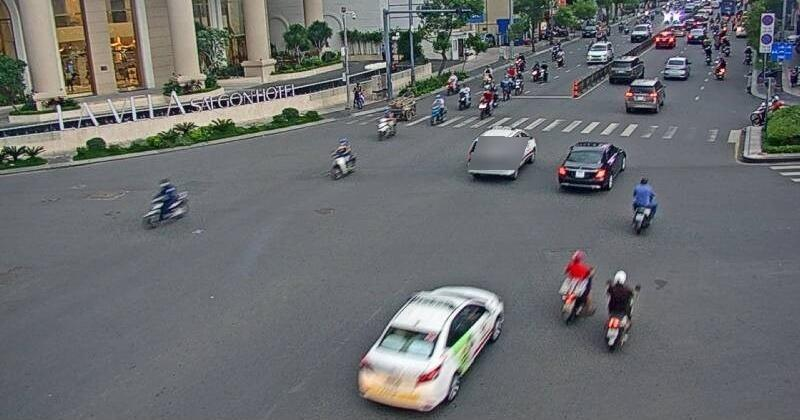xe hoi: (357, 286, 503, 413), (466, 126, 536, 178), (557, 142, 627, 189)
xe may: (603, 269, 641, 349), (631, 177, 658, 233)
